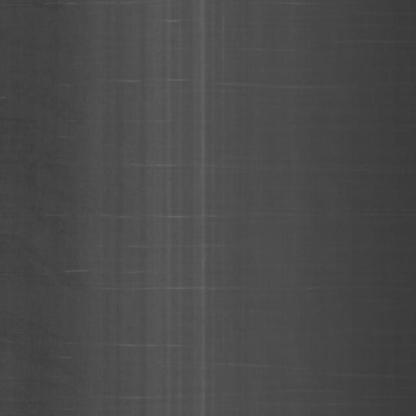waist_folding: (98, 34, 249, 388)
